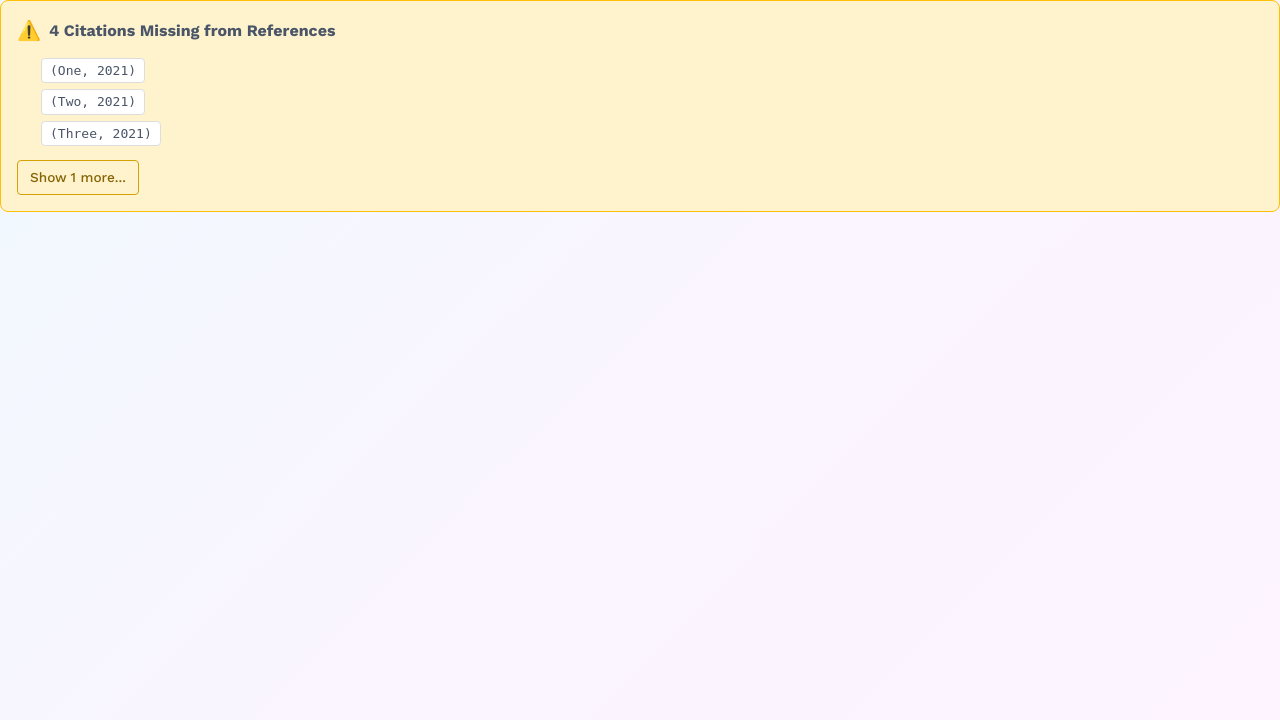
Scenario: OrphanWarningBox › Collapsible behavior › expands and collapses when toggle button clicked
Check: the text "(Four, 2021)" is not shown
Click to expand
Click the button "Show 1 more...".
click(78, 178)  # box [17, 160, 139, 195]
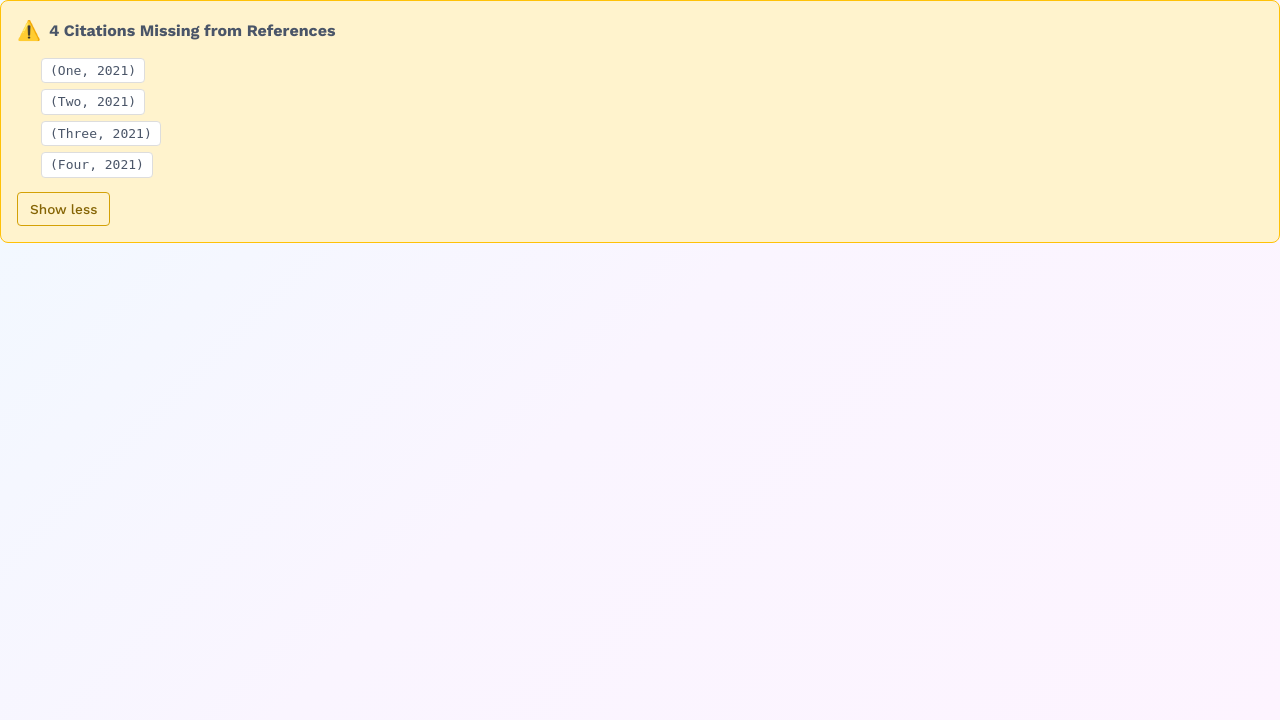
Check: the text "(Four, 2021)" is shown, box [41, 152, 153, 178]
Check: the button "Show less" is shown
Click to collapse again
Click the button "Show less".
click(64, 209)  # box [17, 192, 110, 226]
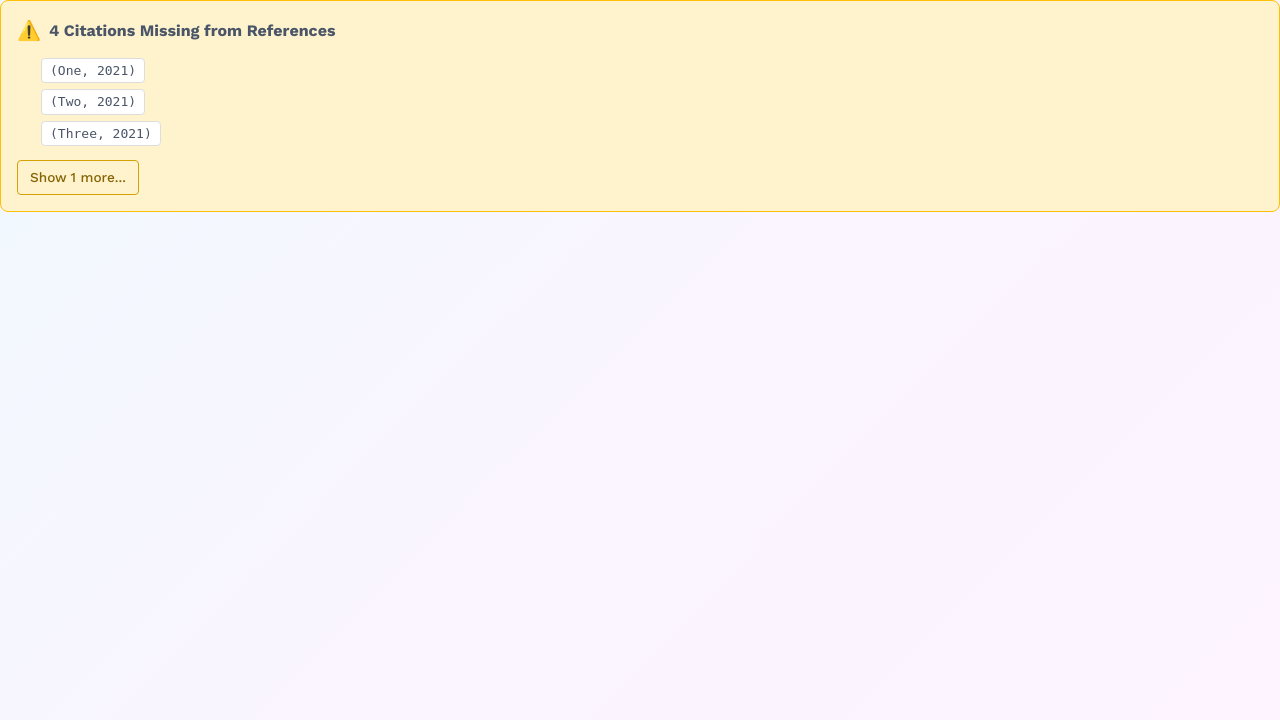
Check: the text "(Four, 2021)" is gone
